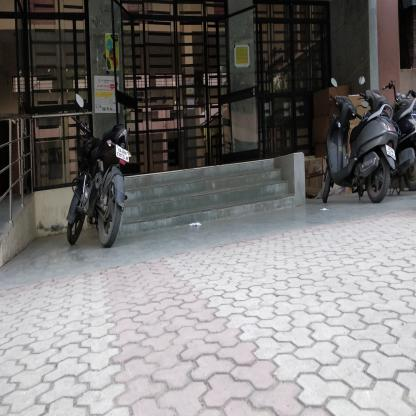stairs: (151, 175, 279, 242)
